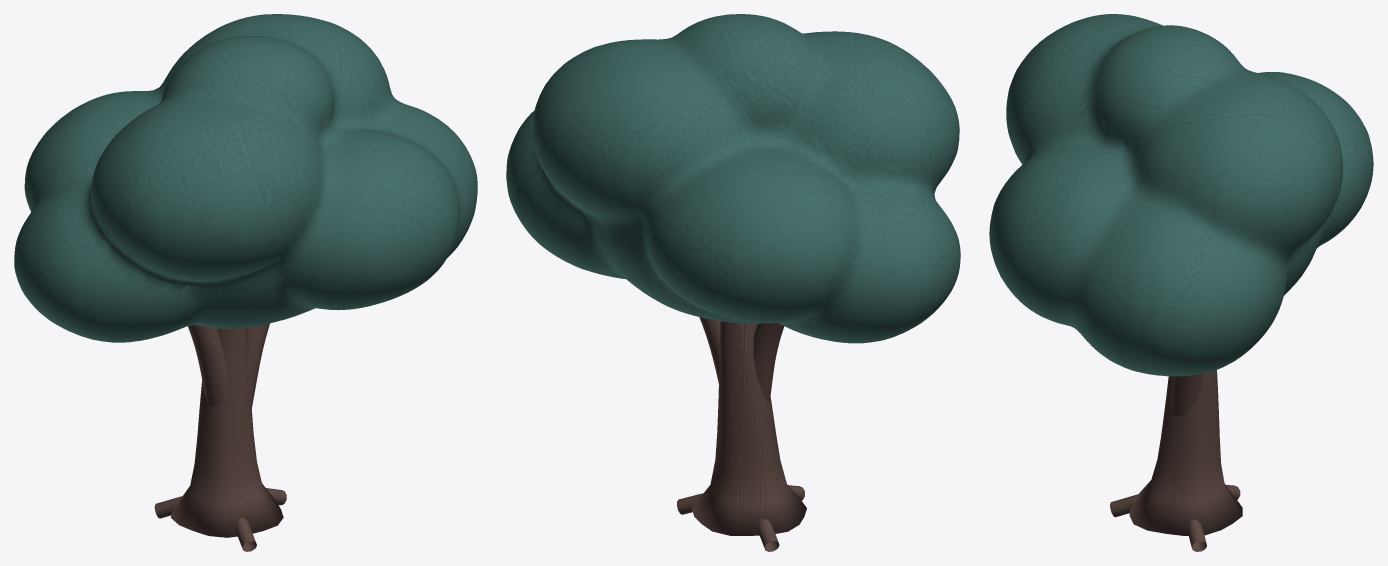
The picture shows the model from 3 angles, left to right: view 1: azimuth 30°, elevation 25°; view 2: azimuth 150°, elevation 25°; view 3: azimuth 270°, elevation 25°; orthographic projection. The views are drawn at different scales.
Parts seen in each view (by area): view 1: Canopy, Trunk; view 2: Canopy, Trunk; view 3: Canopy, Trunk.
Boxes of the visible parts, x1,y1,x2,y2 form: Canopy: (14,14,477,342); Trunk: (154,323,286,551); Canopy: (506,14,960,343); Trunk: (677,317,806,551); Canopy: (989,14,1373,376); Trunk: (1110,370,1242,551).
Bounding box in the file's own units: 4.15 × 4.44 × 3.15.
Materials: 2 (2 with a texture image).
